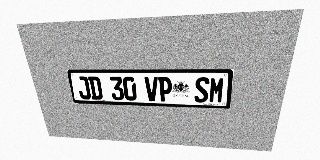0: (122, 77, 137, 101)
3: (109, 76, 124, 100)
D: (88, 76, 103, 100)
J: (76, 76, 91, 99)
M: (208, 77, 225, 103)
P: (158, 77, 172, 102)
S: (194, 77, 210, 103)
V: (144, 77, 158, 101)
